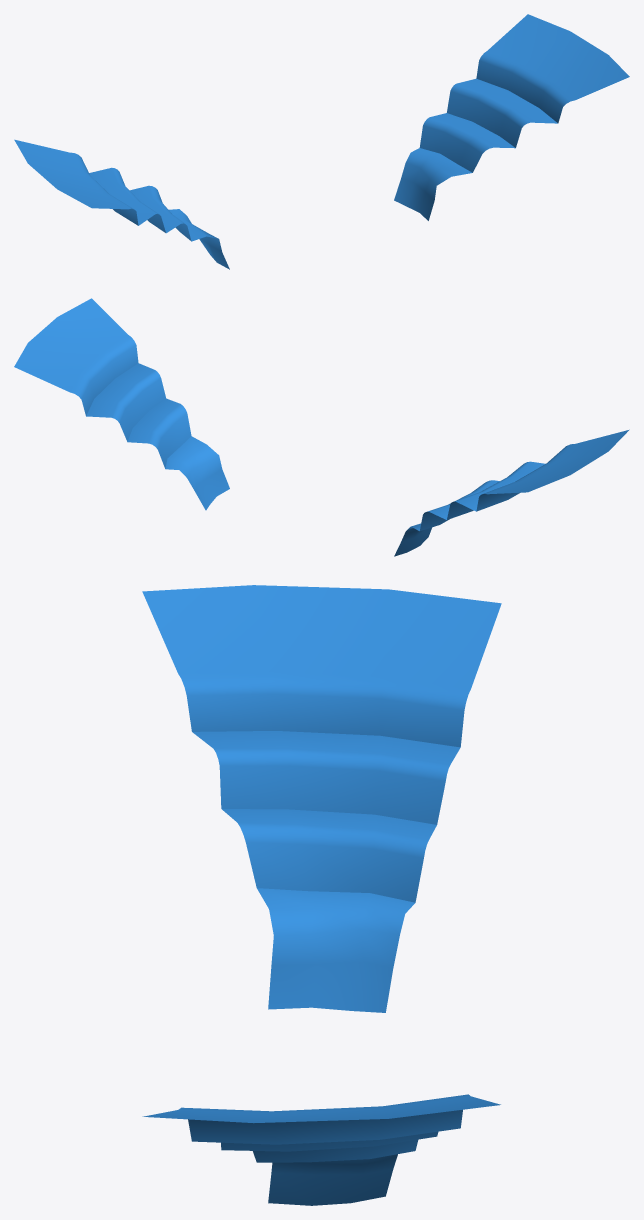
The model's file is Start_water.fbx.
3 renders of one model, top to bottom at view 1: azimuth 30°, elevation 25°; view 2: azimuth 150°, elevation 25°; view 3: azimuth 270°, elevation 25°, orthographic. The views are drawn at different scales.
Visible parts, largest first — view 1: Plane.003; view 2: Plane.003; view 3: Plane.003.
Part boxes in pixels (left/top/right/bottom): Plane.003: left=14, top=14, right=629, bottom=269; Plane.003: left=14, top=298, right=629, bottom=556; Plane.003: left=142, top=585, right=501, bottom=1205.
Size of the model in its own units: 1744 by 382 by 492.
